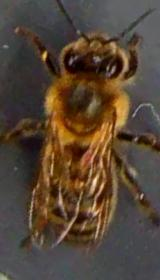varroa_mite: (75, 148, 104, 173)
